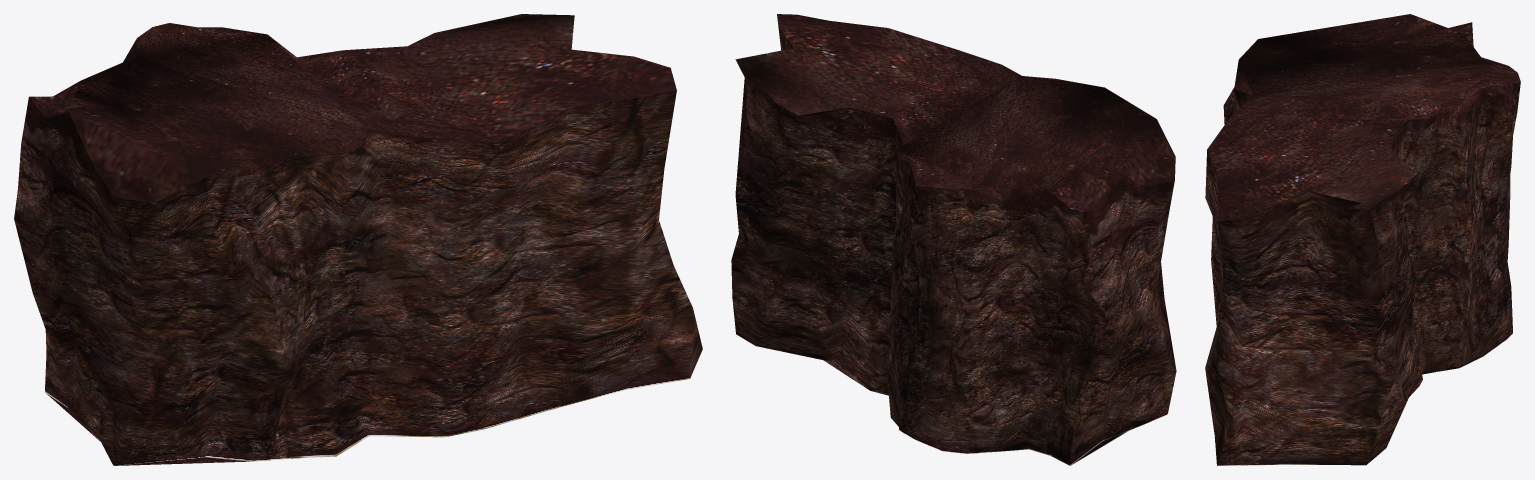
File: hellmountain01.FBX
The picture shows the model from 3 angles, left to right: view 1: azimuth 30°, elevation 25°; view 2: azimuth 150°, elevation 25°; view 3: azimuth 270°, elevation 25°; orthographic projection. The views are drawn at different scales.
Visible parts, largest first — view 1: hellmountain; view 2: hellmountain; view 3: hellmountain.
Part boxes in pixels (x1,y1,x2,y2): hellmountain: (14, 14, 702, 465); hellmountain: (731, 14, 1176, 465); hellmountain: (1205, 14, 1520, 465).
Bounding box in the file's own units: 418 × 233 × 252.
1 material, 1 textured.
